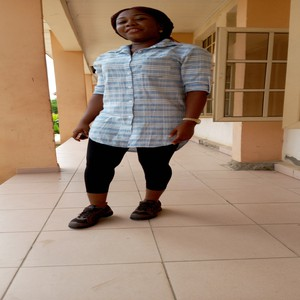Fulokoja_female_student: (80, 8, 190, 221)
